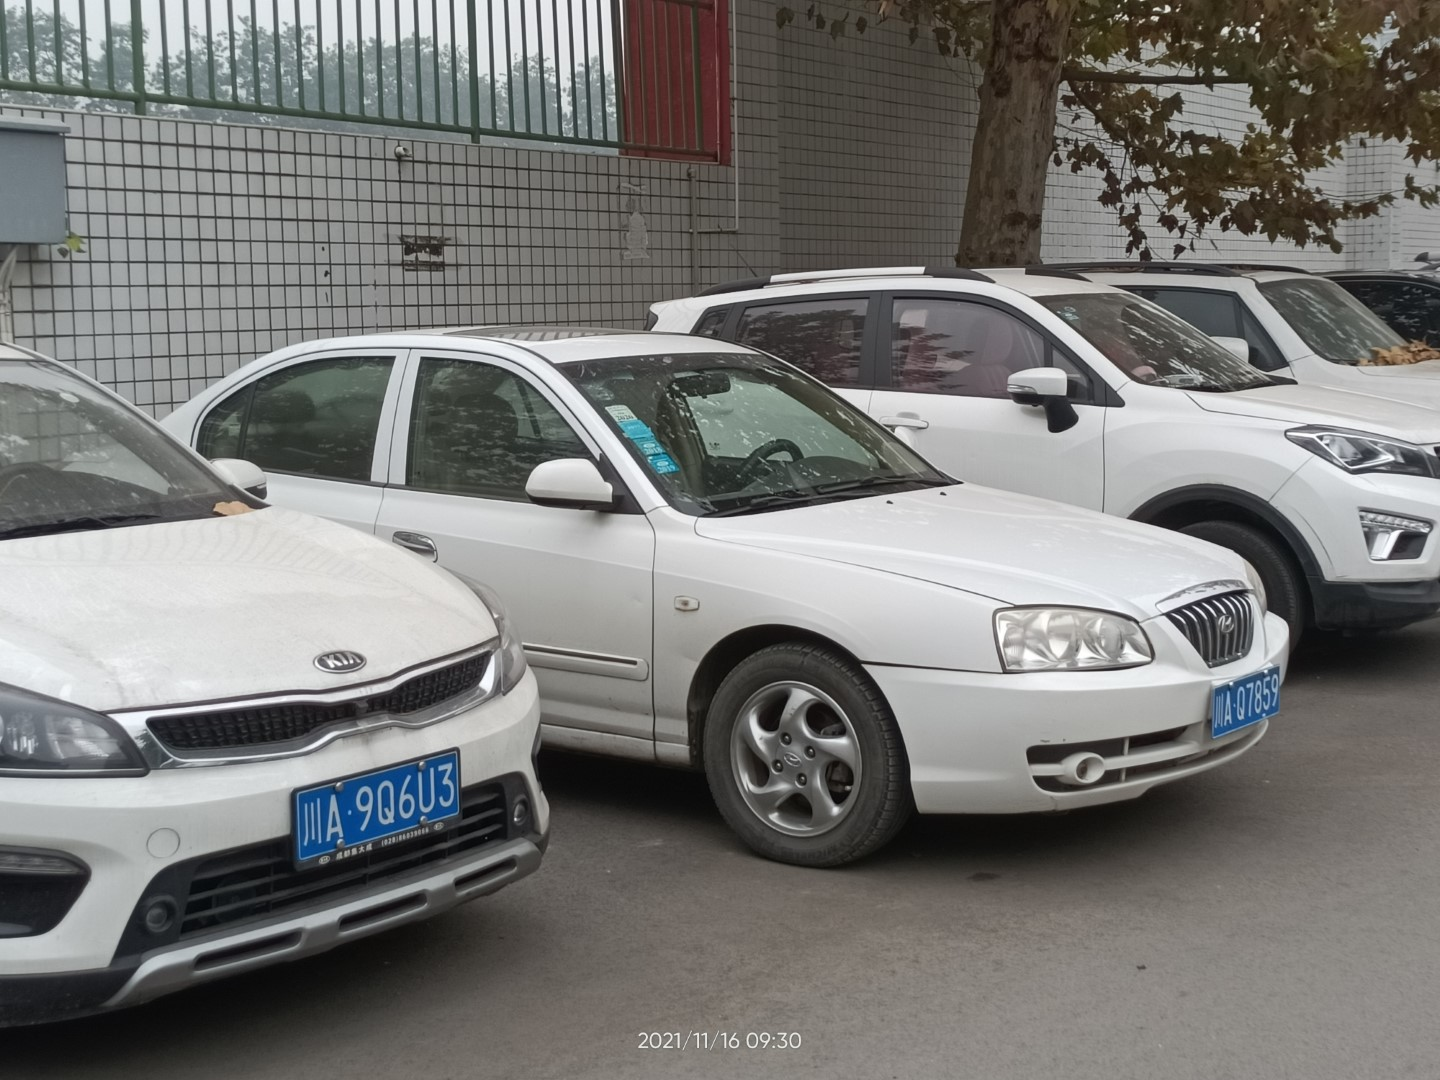plate: (291, 746, 461, 871), (1212, 664, 1281, 739)
